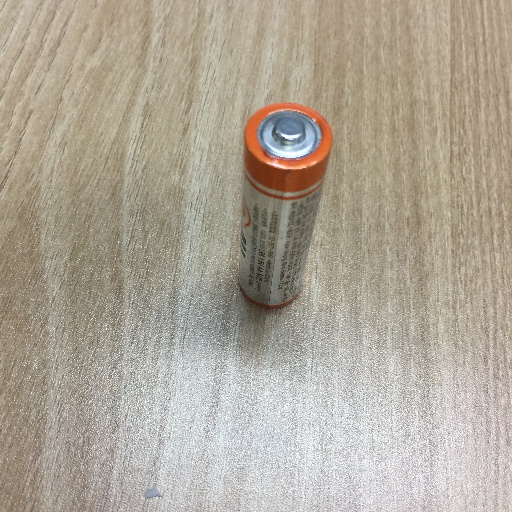Battery_0: (233, 94, 338, 318)
